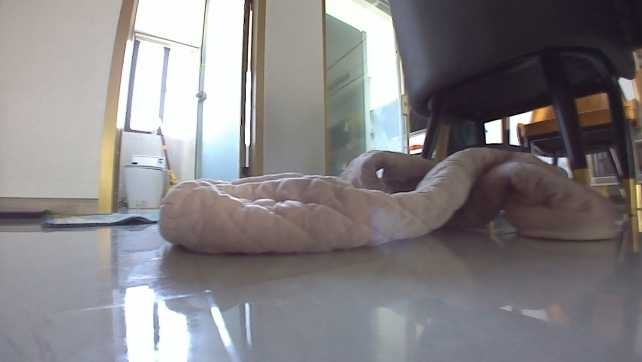blanket: (40, 206, 160, 227)
door_anno: (194, 0, 248, 185)
toilet: (120, 152, 168, 210)
